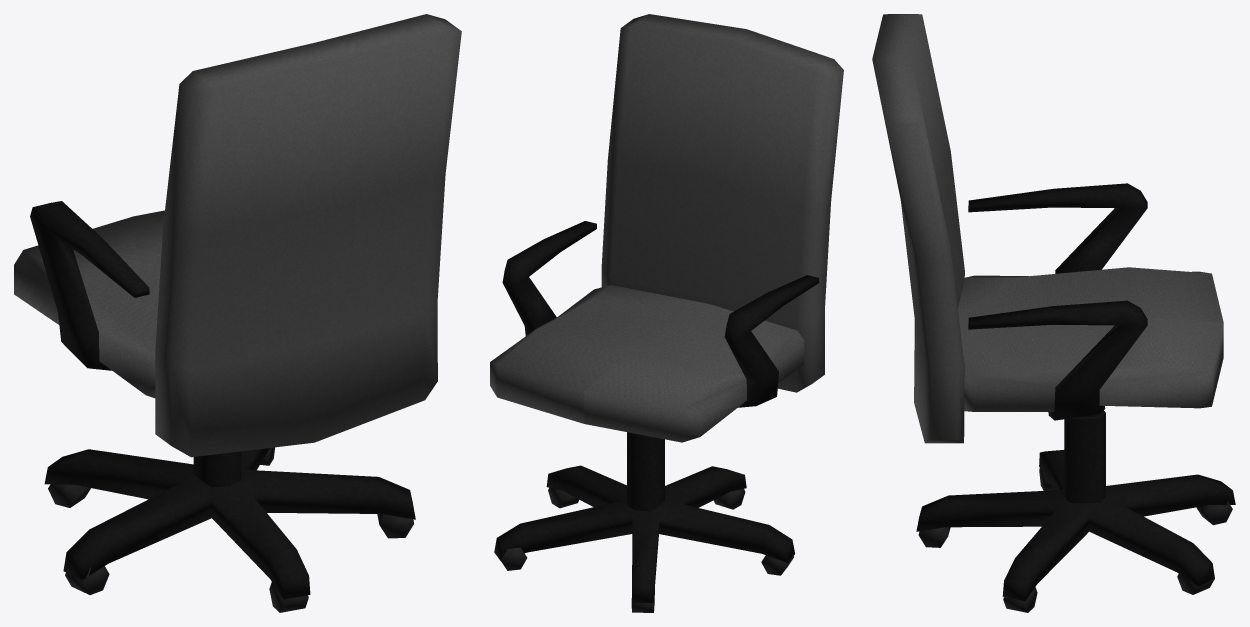
The model's file is ChairBlack.FBX.
3 views of the same model, side by side, from view 1: azimuth 30°, elevation 25°; view 2: azimuth 150°, elevation 25°; view 3: azimuth 270°, elevation 25° (orthographic). The views are drawn at different scales.
Visible parts, largest first — view 1: ChairBlack; view 2: ChairBlack; view 3: ChairBlack.
Part boxes in pixels (box(x1,y1,x2,y2)): ChairBlack: box(14, 14, 461, 612); ChairBlack: box(490, 14, 843, 612); ChairBlack: box(872, 14, 1235, 612).
Bounding box in the file's own units: 73.95 × 123 × 83.12.
Materials: 1 (1 with a texture image).
